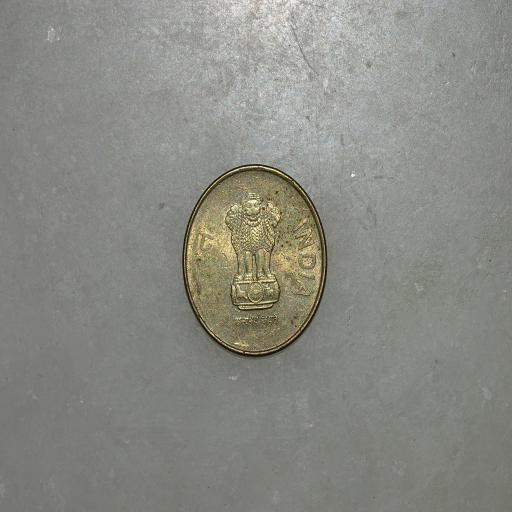rupee5: (174, 164, 332, 362)
